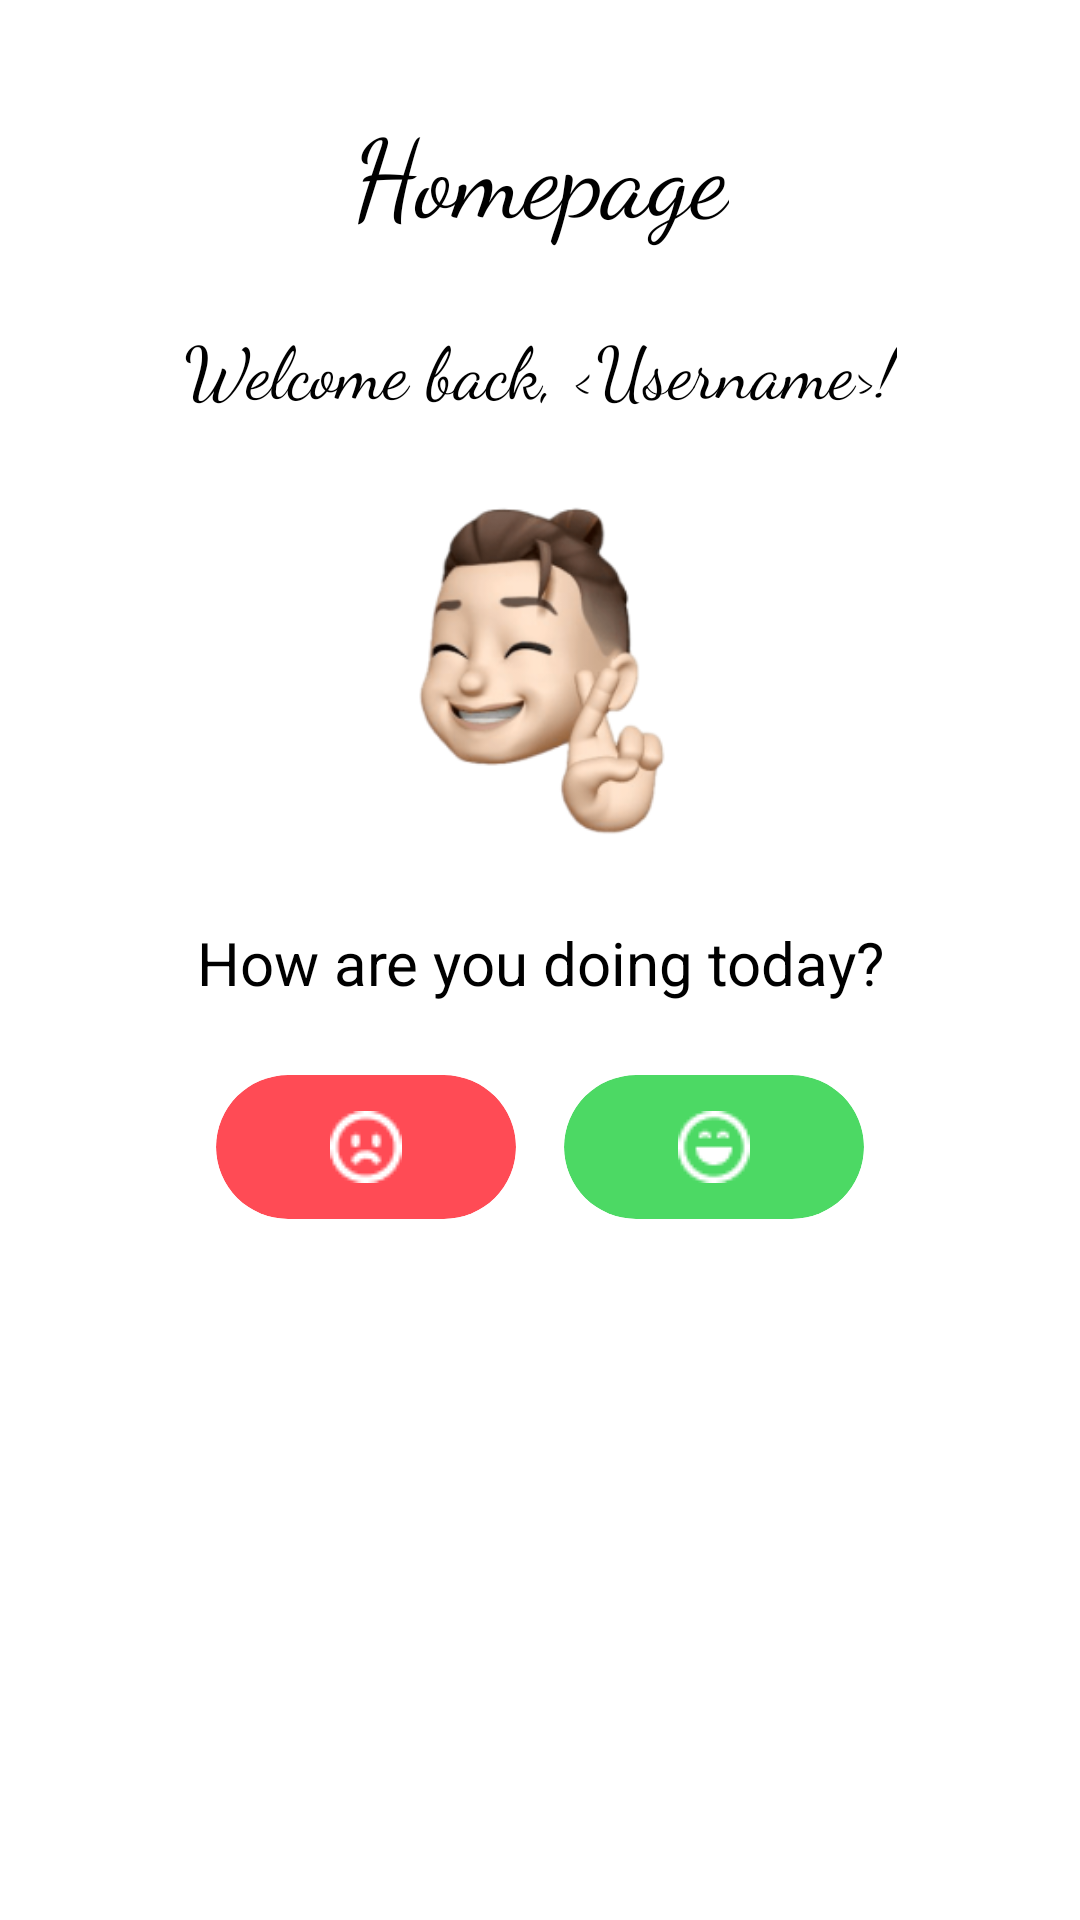

Where to tap for icons on this 1080px×1920px app screen, as [x,y]:
sad: [366,1147]
smile: [714,1147]
